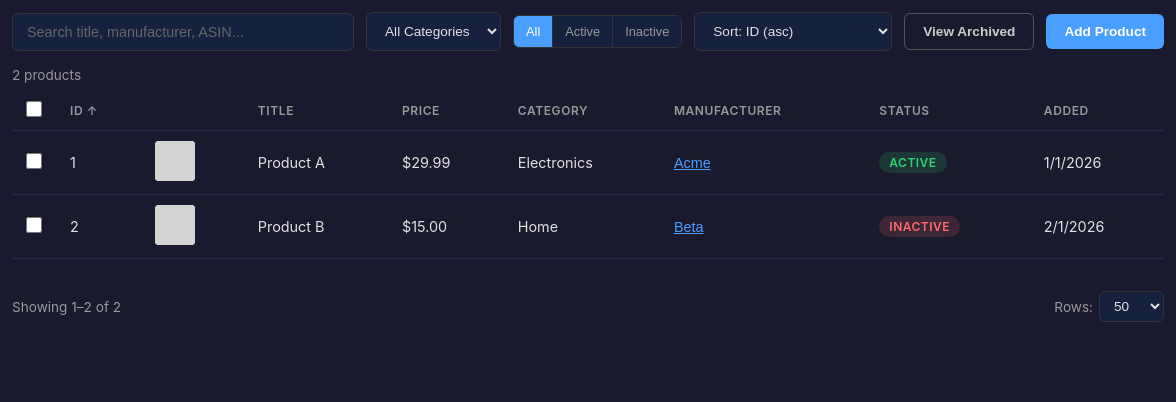
Test: AdminProductsPage › clear button clears selection
What coordinates should you click on to do the following:
click the checkbox with test id "select-all"
I would click on:
 (34, 109)
Its box is [26, 101, 42, 117].
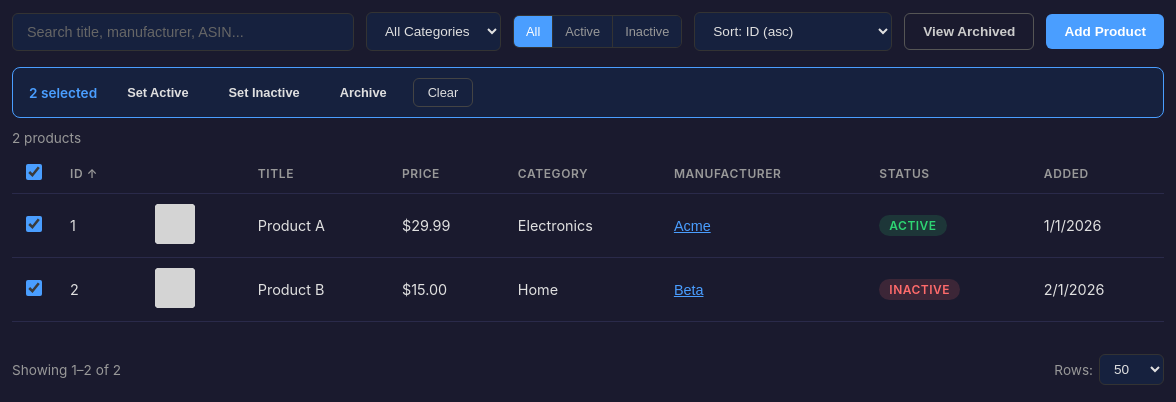
Check: the button with test id "bulk-clear" is shown
What coordinates should you click on to do the following:
click the button with test id "bulk-clear"
I would click on:
 (443, 92)
Its box is [413, 78, 473, 107].
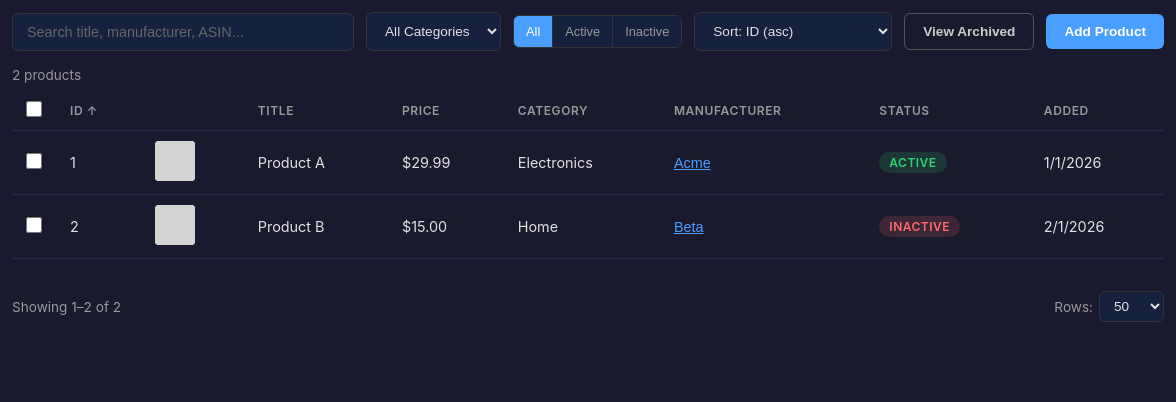
Check: the element with test id "bulk-action-bar" is gone
